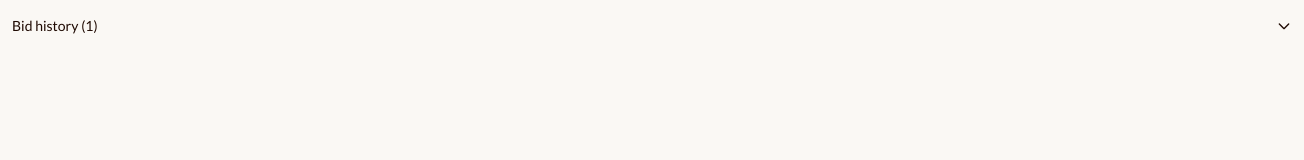
BidHistory › expanded state › shows "Oferta" when paddleNumber is null
Click the button "Bid history (1)".
click(45, 26)  # box [12,16,1292,36]
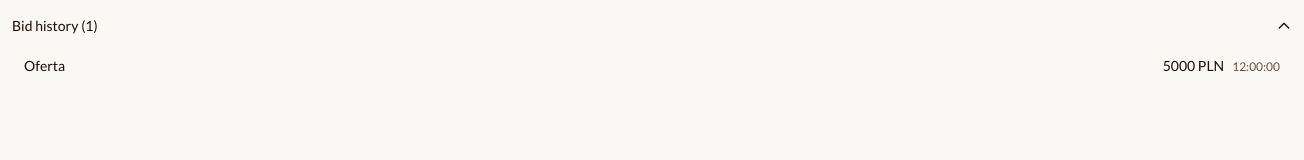
Now the text "Oferta" is shown, box [24,57,65,74]
